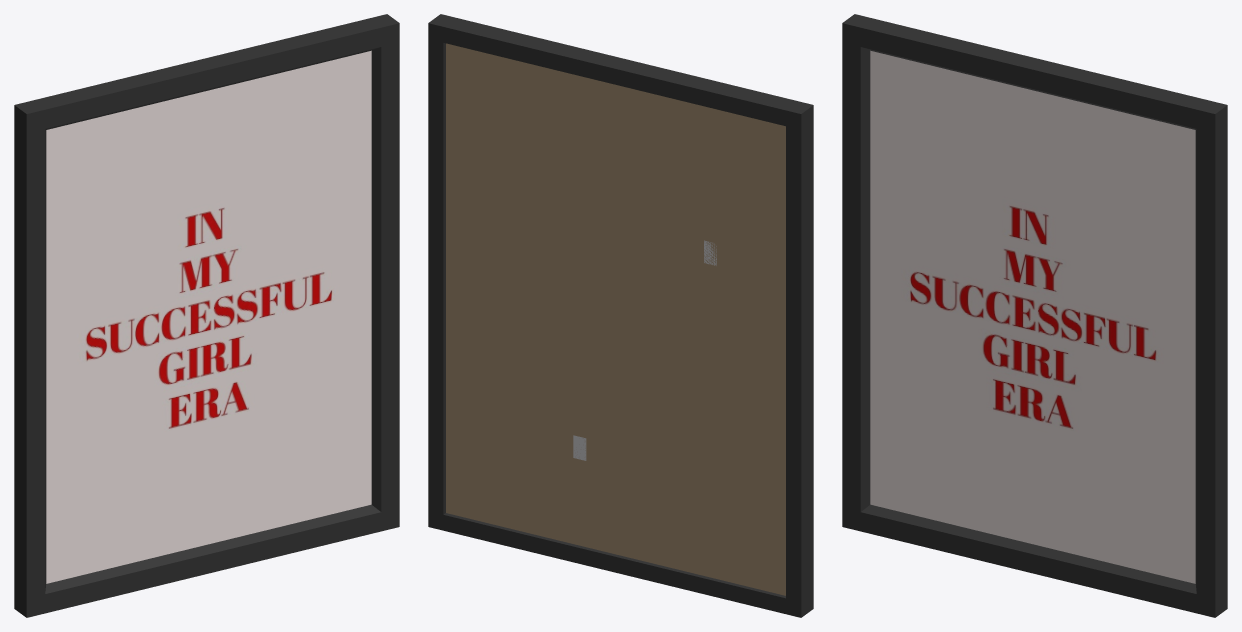
The model's file is successful-girl-era-30x40.glb.
The picture shows the model from 3 angles, left to right: view 1: azimuth 30°, elevation 25°; view 2: azimuth 150°, elevation 25°; view 3: azimuth 330°, elevation 25°; orthographic projection.
Parts seen in each view (by area): view 1: LAWHA 30x40; view 2: LAWHA 30x40; view 3: LAWHA 30x40.
Boxes of the visible parts, <box> form: LAWHA 30x40: <box>14,14,399,617</box>; LAWHA 30x40: <box>428,14,813,617</box>; LAWHA 30x40: <box>842,14,1227,617</box>.
Bounding box in the file's own units: 0.344 × 0.444 × 0.02.
4 materials, 1 textured.
